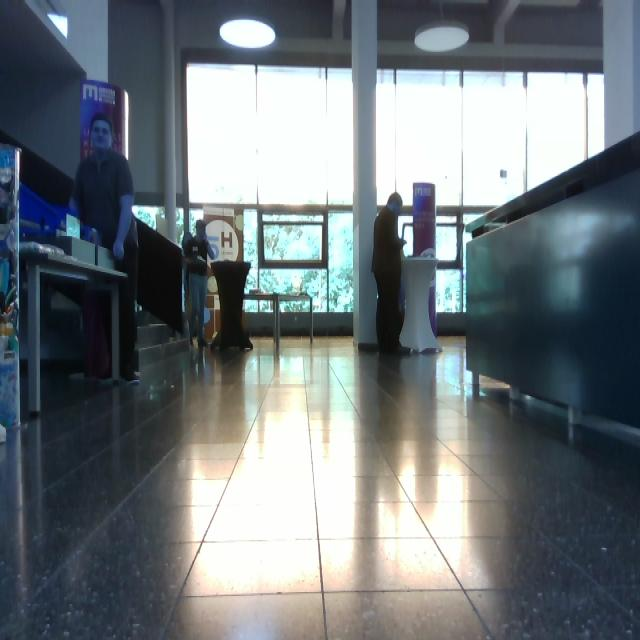light bulb: (218, 16, 275, 48), (413, 20, 469, 52), (47, 12, 68, 39)
person: (68, 112, 140, 383), (370, 190, 410, 354), (182, 218, 215, 346)
pillar: (350, 0, 378, 349)
table: (20, 239, 131, 417)
tiled floor: (1, 331, 638, 637)
window: (184, 60, 354, 315)
